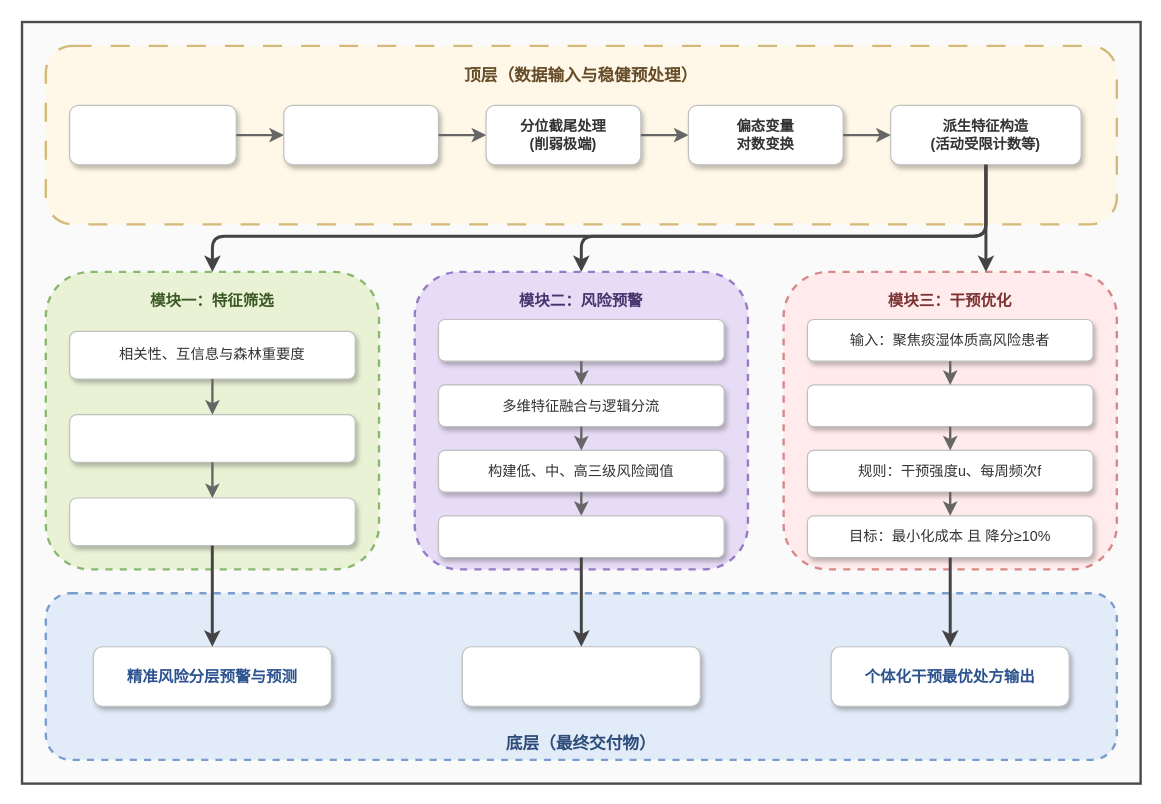
Image size: 1161x804. Some labels were removed from this diagram. The shapes that lost their labels are listed below. From the top down, each one's centre as x and y in pixels, then its label:
At [153,136]: "1000例病患个案数据 (体质/活动/血常规/基础)".
At [362,136]: "结构核验 主导标签修正".
At [582,341]: "诊断型识别与早预警模型双分支".
At [950,407]: "约束：年龄、活动总分、成本≤2000".
At [213,440]: "综合积分排序评估".
At [213,523]: "提取核心血脂、代谢与功能指标".
At [582,538]: "精准识别高风险特征组合".
At [581,678]: "高危患者人群核心业务画像".
